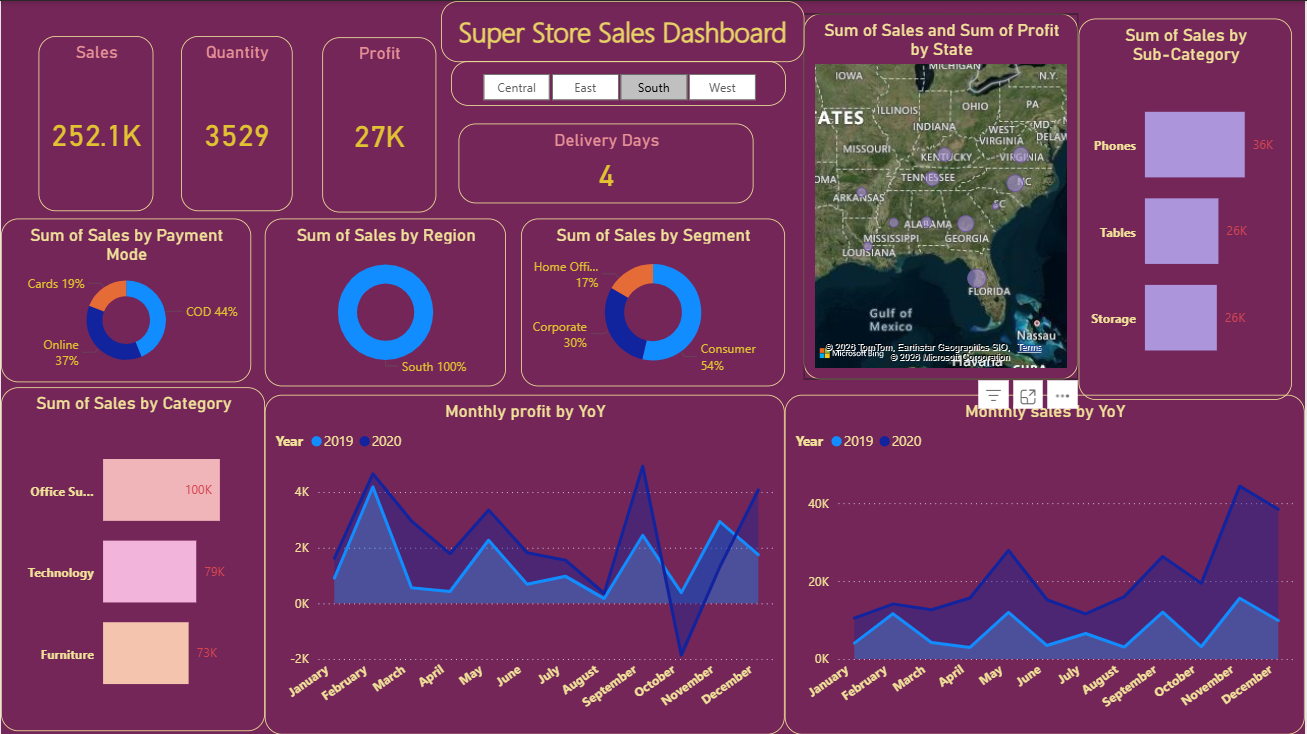

What the dashboard file says about the page in this screenshot:
{"tool":"powerbi","page":{"name":"Page 1","canvas":[1280,720],"ordinal":0},"visuals":[{"type":"barChart","fields":{"Category":["SuperStore_Sales_Dataset.Category"],"Y":["Sum(SuperStore_Sales_Dataset.Sales)"]},"box":[0,378.7,259.3,337.6],"z":0},{"type":"barChart","fields":{"Category":["SuperStore_Sales_Dataset.Sub-Category","SuperStore_Sales_Dataset.Category"],"Y":["Sum(SuperStore_Sales_Dataset.Sales)"]},"box":[1057.7,17.2,209.8,374.2],"z":1000},{"type":"slicer","fields":{"Values":["SuperStore_Sales_Dataset.Region"]},"box":[441.7,58.9,328.8,44.2],"z":2000},{"type":"stackedAreaChart","title":"Monthly sales by YoY","fields":{"Y":["Sum(SuperStore_Sales_Dataset.Sales)"],"Series":["SuperStore_Sales_Dataset.Order Date.Variation.Date Hierarchy.Year"],"Category":["SuperStore_Sales_Dataset.Order Date.Variation.Date Hierarchy.Month","SuperStore_Sales_Dataset.Order Date.Variation.Date Hierarchy.Day"]},"box":[769.3,386.2,510.4,333.7],"z":3000},{"type":"stackedAreaChart","title":"Monthly profit by YoY","fields":{"Series":["SuperStore_Sales_Dataset.Order Date.Variation.Date Hierarchy.Year"],"Category":["SuperStore_Sales_Dataset.Order Date.Variation.Date Hierarchy.Month","SuperStore_Sales_Dataset.Order Date.Variation.Date Hierarchy.Day"],"Y":["Sum(SuperStore_Sales_Dataset.Profit)"]},"box":[258.9,386.2,510.4,333.7],"z":4000},{"type":"map","fields":{"Category":["SuperStore_Sales_Dataset.State"],"Size":["Sum(SuperStore_Sales_Dataset.Sales)"]},"box":[787.7,12.3,269.9,359.5],"z":5000},{"type":"donutChart","fields":{"Category":["SuperStore_Sales_Dataset.Segment"],"Y":["Sum(SuperStore_Sales_Dataset.Sales)"]},"box":[510.4,213.5,258.9,164.4],"z":6000},{"type":"donutChart","fields":{"Y":["Sum(SuperStore_Sales_Dataset.Sales)"],"Category":["SuperStore_Sales_Dataset.Payment Mode"]},"box":[0,213.5,245.4,160.7],"z":7000},{"type":"donutChart","fields":{"Y":["Sum(SuperStore_Sales_Dataset.Sales)"],"Category":["SuperStore_Sales_Dataset.Region"]},"box":[258.9,213.5,236.8,164.4],"z":8000},{"type":"textbox","box":[431.9,0,357.1,60.1],"z":9000},{"type":"card","title":"Sales","fields":{"Values":["Sum(SuperStore_Sales_Dataset.Sales)"]},"box":[36.8,34.4,112.9,171.8],"z":10000},{"type":"card","title":"Quantity","fields":{"Values":["Sum(SuperStore_Sales_Dataset.Quantity)"]},"box":[176.7,34.4,109.2,171.8],"z":11000},{"type":"card","title":"Profit","fields":{"Values":["Sum(SuperStore_Sales_Dataset.Profit)"]},"box":[315.3,35.6,111.7,171.8],"z":12000},{"type":"card","title":"Delivery Days","fields":{"Values":["Avg(SuperStore_Sales_Dataset.AvgDelivery)"]},"box":[449.1,120.2,289.6,78.5],"z":13000}]}

Visuals, with their boxes in screenshot pixels (x1, y1, x2, y2), scaled from the page's 1280x720 canvas onto the 1307x734 screenshot:
barChart - SuperStore_Sales_Dataset.Category x Sum(SuperStore_Sales_Dataset.Sales): [0, 386, 265, 730]
barChart - SuperStore_Sales_Dataset.Sub-Category x SuperStore_Sales_Dataset.Category: [1080, 18, 1294, 399]
slicer - SuperStore_Sales_Dataset.Region: [451, 60, 787, 105]
"Monthly sales by YoY" stackedAreaChart: [786, 394, 1306, 733]
"Monthly profit by YoY" stackedAreaChart: [264, 394, 786, 733]
map - SuperStore_Sales_Dataset.State x Sum(SuperStore_Sales_Dataset.Sales): [804, 13, 1080, 379]
donutChart - SuperStore_Sales_Dataset.Segment x Sum(SuperStore_Sales_Dataset.Sales): [521, 218, 786, 385]
donutChart - Sum(SuperStore_Sales_Dataset.Sales) x SuperStore_Sales_Dataset.Payment Mode: [0, 218, 251, 381]
donutChart - Sum(SuperStore_Sales_Dataset.Sales) x SuperStore_Sales_Dataset.Region: [264, 218, 506, 385]
textbox: [441, 0, 806, 61]
"Sales" card: [38, 35, 153, 210]
"Quantity" card: [180, 35, 292, 210]
"Profit" card: [322, 36, 436, 211]
"Delivery Days" card: [459, 123, 754, 203]
